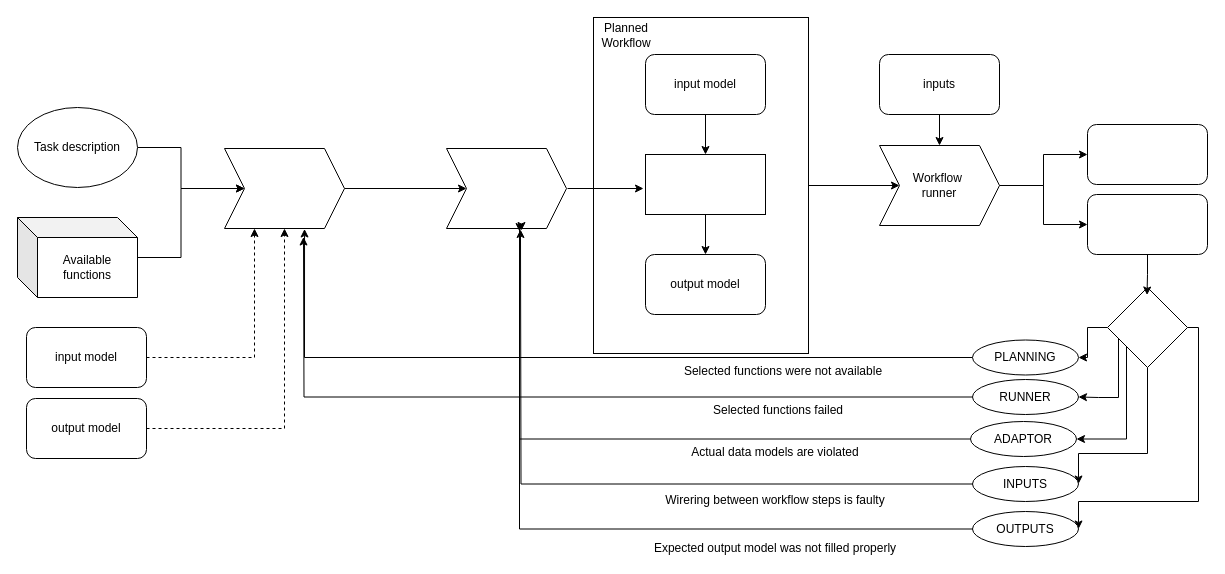
Some shapes in this 1225 by 574 pixel diagram are drawn without their labels. Here are the shapes that lost their labels. From the top down, the box of each, then its label:
(1086, 124, 1208, 184): outputs from each step
(224, 148, 344, 228): Workflow planner
(446, 148, 566, 228): Workflow adaptor
(644, 154, 766, 214): Workflow, verified inputs from function outputs and input model
(1086, 194, 1208, 254): error
(1106, 286, 1188, 368): check error type
